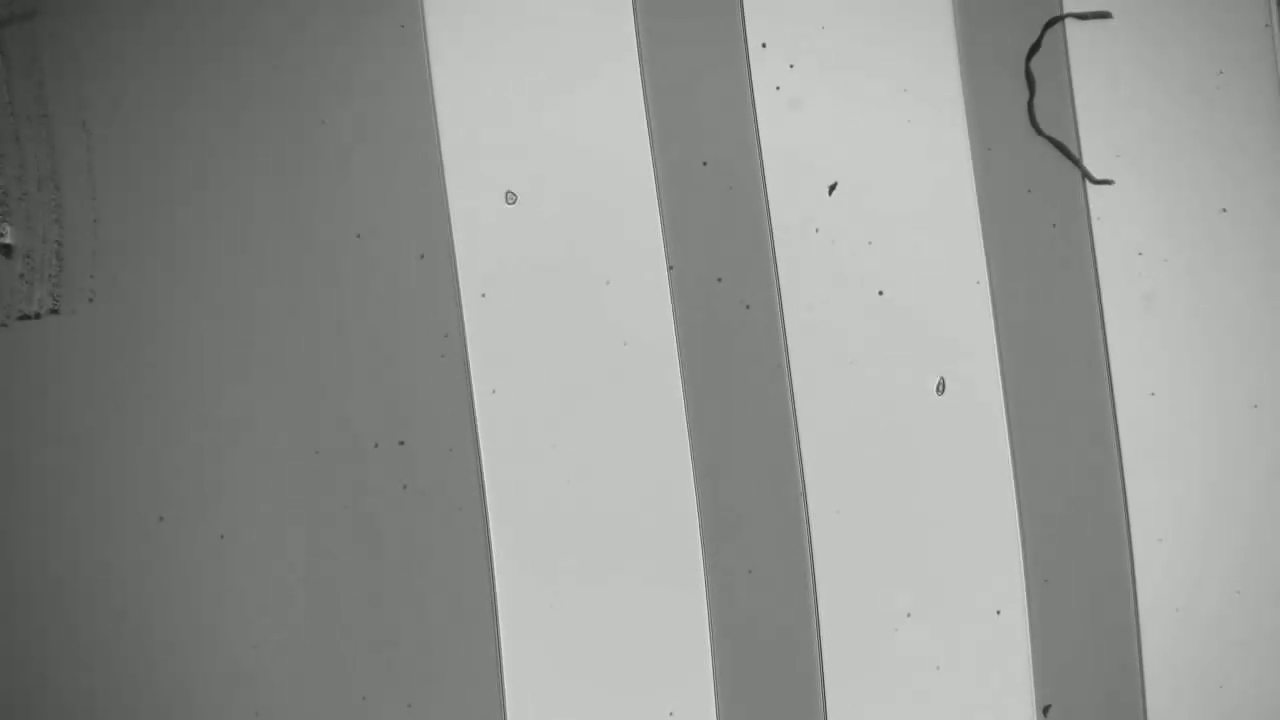scratch: (1, 4, 100, 341)
